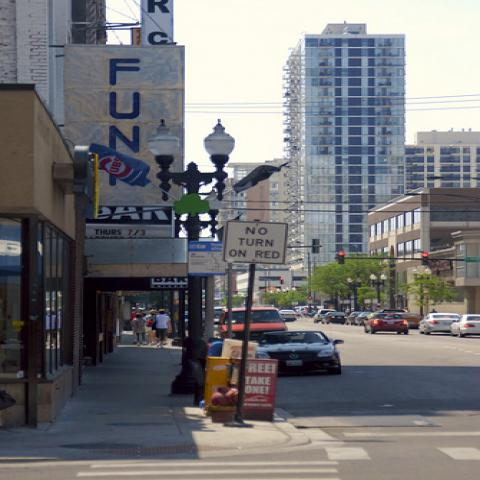car: (255, 330, 345, 373), (214, 306, 288, 340), (362, 313, 410, 336), (418, 313, 461, 336), (447, 314, 479, 338), (400, 312, 423, 328), (312, 309, 337, 323), (326, 312, 347, 325), (279, 309, 298, 322), (355, 312, 370, 326), (346, 316, 356, 325)
